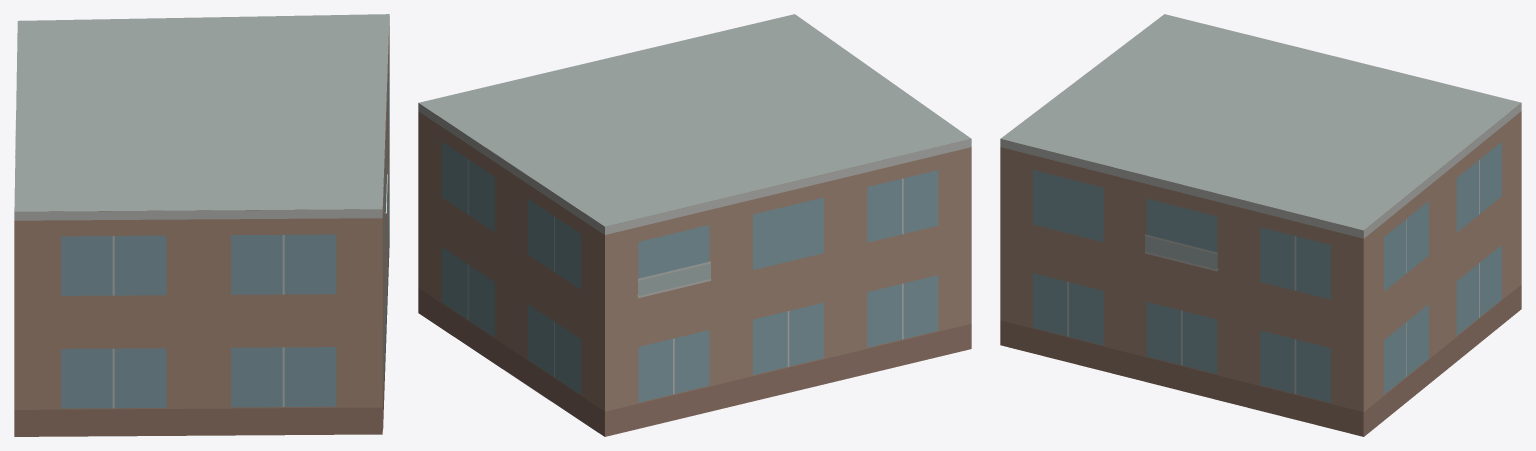
File: survey-upis-32917434.glb
The picture shows the model from 3 angles, left to right: view 1: azimuth 30°, elevation 25°; view 2: azimuth 150°, elevation 25°; view 3: azimuth 270°, elevation 25°; orthographic projection. The views are drawn at different scales.
Visible parts, largest first — view 1: survey-upis-32917434.tmp; view 2: survey-upis-32917434.tmp; view 3: survey-upis-32917434.tmp.
Boxes of the visible parts, x1=… form: survey-upis-32917434.tmp: x1=14, y1=14, x2=389, y2=436; survey-upis-32917434.tmp: x1=418, y1=14, x2=971, y2=436; survey-upis-32917434.tmp: x1=1000, y1=14, x2=1521, y2=436.
Size of the model in its own units: 13.73 by 6.1 by 13.97.
